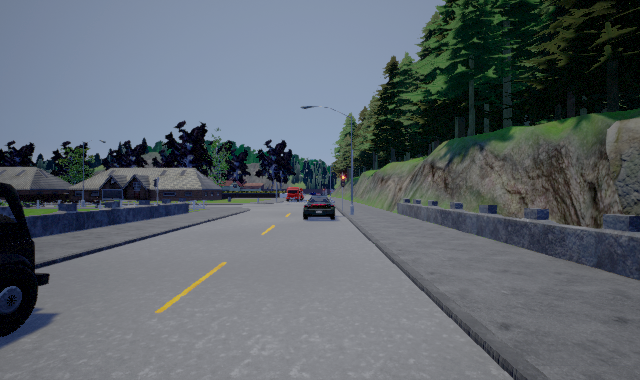vehicle: (1, 182, 50, 337), (303, 192, 335, 220), (284, 186, 305, 203)
